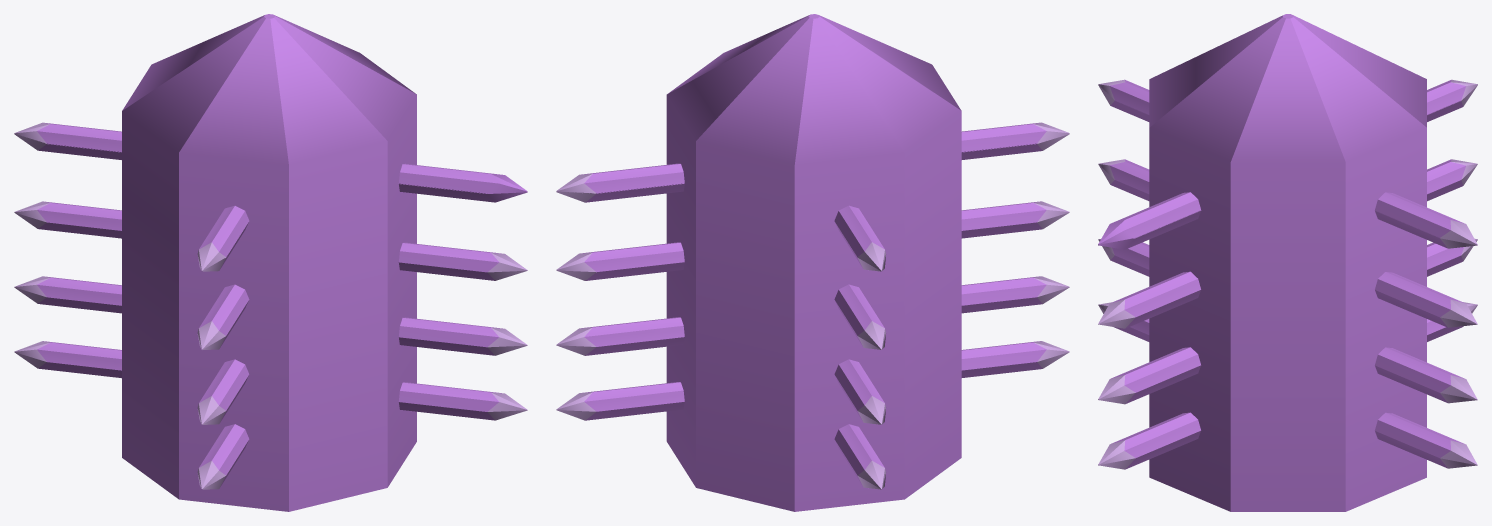
File: round_4.fbx
3 renders of one model, left to right at view 1: azimuth 30°, elevation 25°; view 2: azimuth 150°, elevation 25°; view 3: azimuth 270°, elevation 25°, orthographic.
Parts seen in each view (by area): view 1: polySurface105; view 2: polySurface105; view 3: polySurface105.
Part boxes in pixels (x1=…): polySurface105: x1=14, y1=14, x2=527, y2=511; polySurface105: x1=556, y1=14, x2=1069, y2=511; polySurface105: x1=1098, y1=14, x2=1477, y2=511.
Size of the model in its own units: 25.36 by 32.2 by 25.36.
